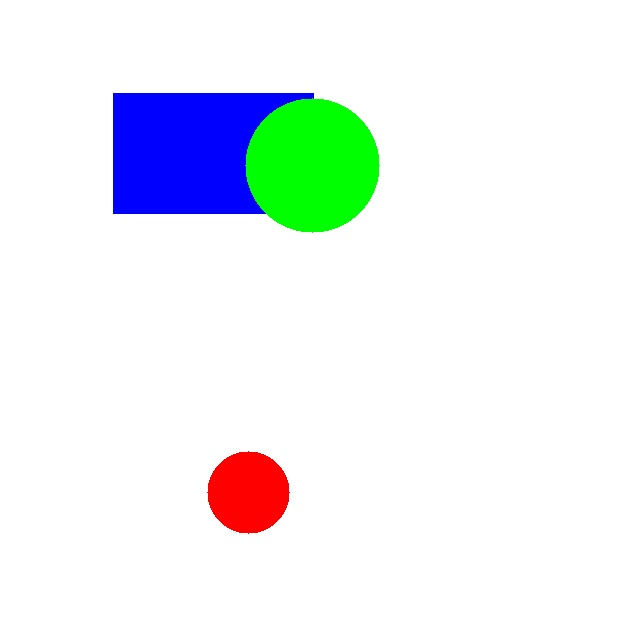cartao: (113, 93, 313, 213)
rosca_externa: (245, 98, 379, 232)
rosca_interna: (207, 451, 289, 533)
